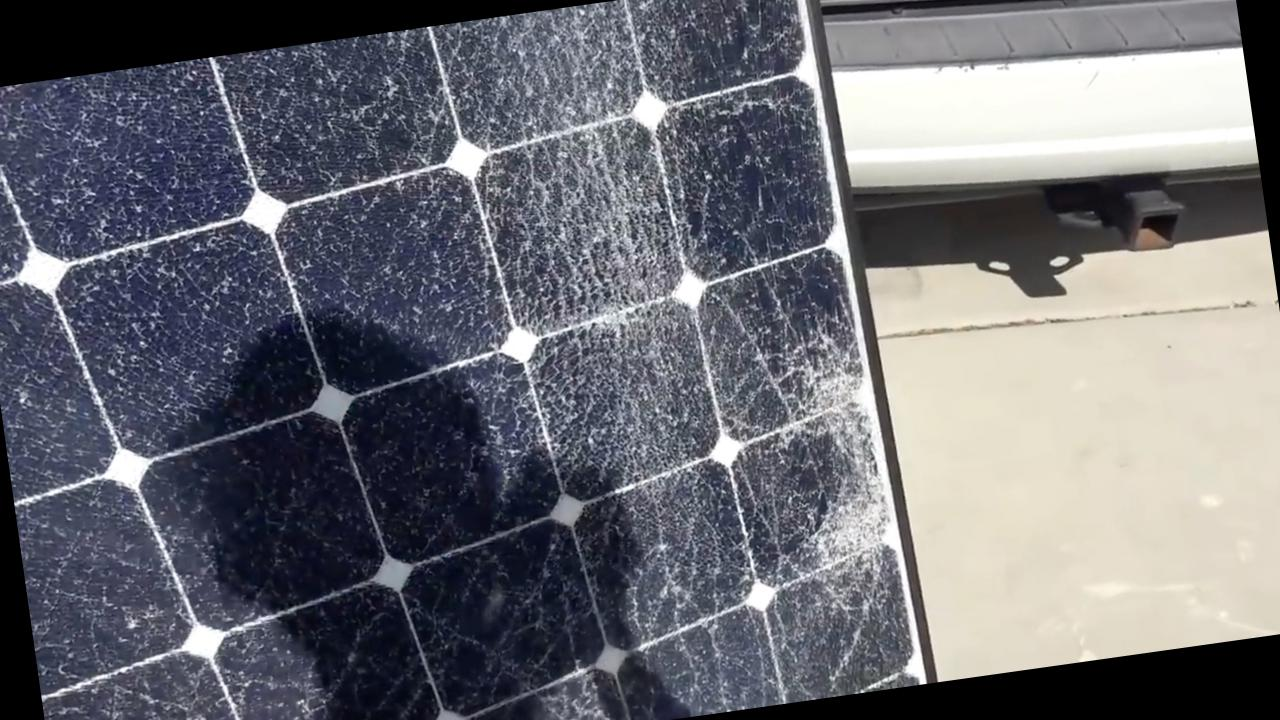Crack: (442, 15, 764, 428), (712, 316, 909, 596)
